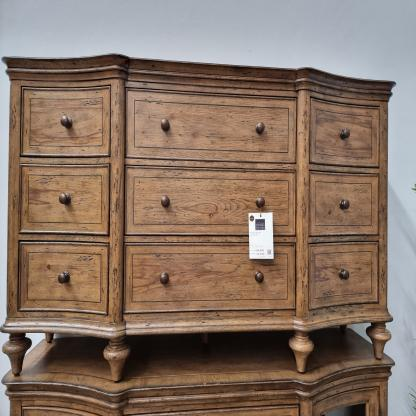Sideboard: (0, 48, 399, 388)
